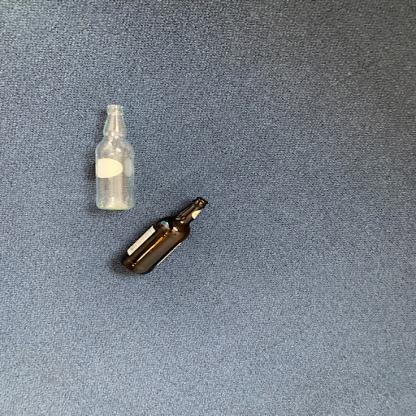trash: (118, 196, 216, 275), (95, 102, 134, 216)
